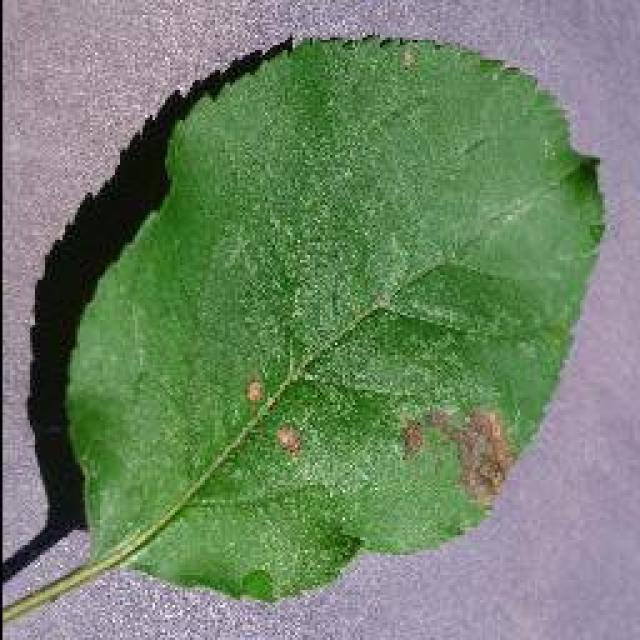apple scab disease: (22, 30, 608, 605)
